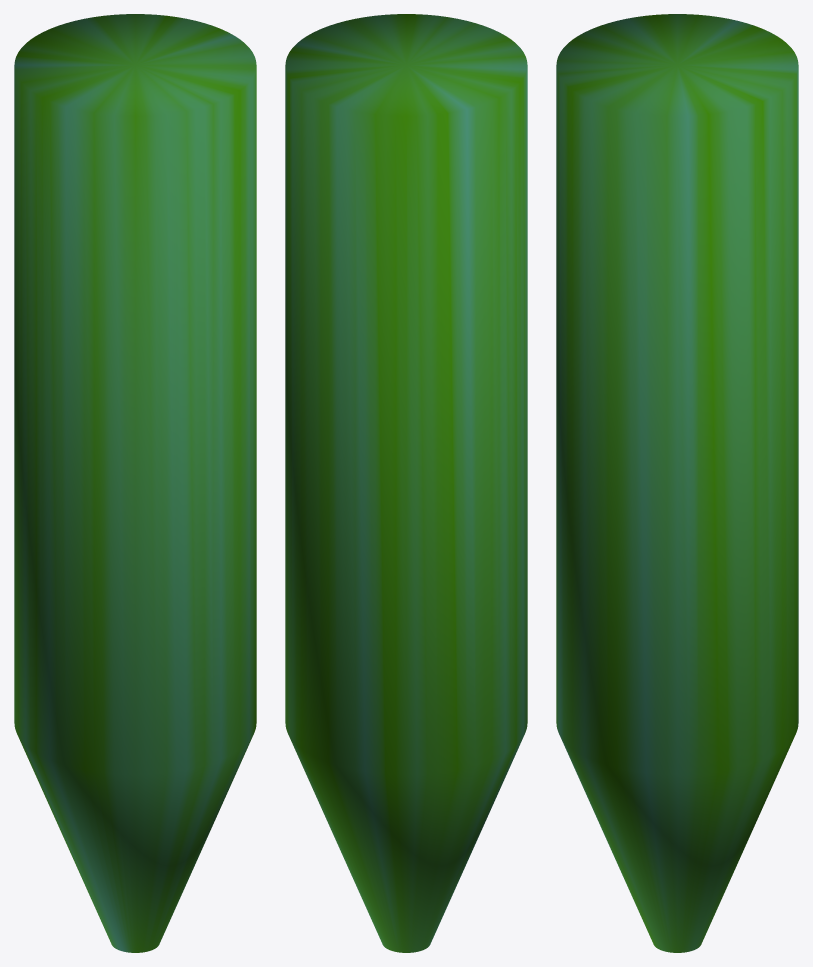
Rendered from dispenser.obj.
3 renders of one model, left to right at view 1: azimuth 30°, elevation 25°; view 2: azimuth 150°, elevation 25°; view 3: azimuth 270°, elevation 25°, orthographic.
Bounding box in the file's own units: 100 × 400 × 100.
